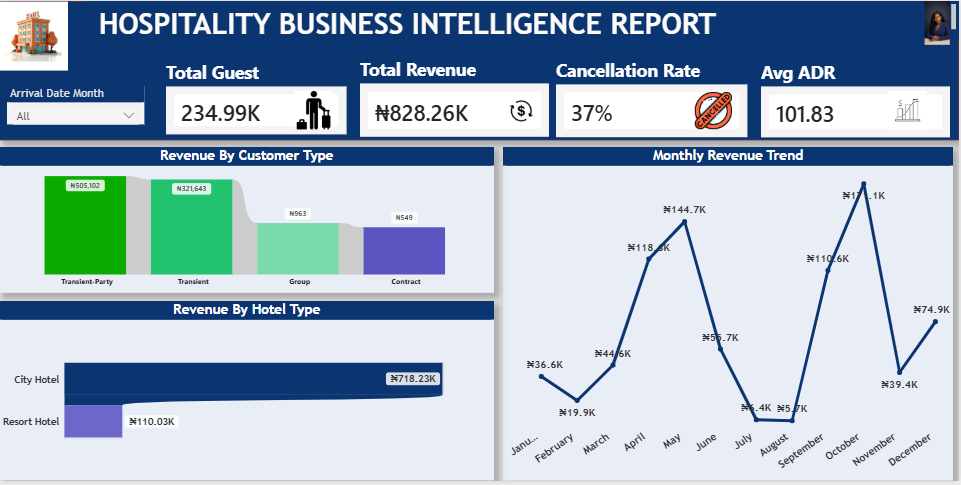

What the dashboard file says about the page in this screenshot:
{"tool":"powerbi","page":{"name":"Executive Report","canvas":[1600,800],"ordinal":0},"visuals":[{"type":"shape","box":[0,0,1600,232.3],"z":0},{"type":"textbox","box":[144.9,0,1455.1,61.4],"z":1000},{"type":"image","box":[0,3.1,144.9,116.5],"z":2000},{"type":"cardVisual","title":"Total Guest","fields":{"Data":["hotel_bookings.Total Guests"]},"box":[273.5,98.1,311.4,129],"z":3000},{"type":"image","box":[462.8,149.7,122.2,63.7],"z":4000},{"type":"cardVisual","title":"Total Revenue","fields":{"Data":["hotel_bookings.Total Revenue"]},"box":[596.9,92.9,326,138.6],"z":5000},{"type":"cardVisual","title":"Cancellation Rate","fields":{"Data":["hotel_bookings.Cancellation Rate"]},"box":[922.8,94.5,329.1,137],"z":6000},{"type":"cardVisual","title":"Avg ADR","fields":{"Data":["hotel_bookings.Average ADR"]},"box":[1264.5,98.1,325.2,134.2],"z":7000},{"type":"image","box":[788,151.4,122.2,53.3],"z":8000},{"type":"image","box":[1087.3,151.4,148,61.9],"z":9000},{"type":"image","box":[1441.7,149.7,146.2,63.7],"z":10000},{"type":"lineChart","title":"Monthly Revenue Trend","fields":{"Category":["hotel_bookings.Arrival Date Month "],"Y":["hotel_bookings.Total Revenue"]},"box":[839.4,244.1,749.6,555.9],"z":11000},{"type":"barChart","title":"Revenue   By Hotel Type","fields":{"Category":["hotel_bookings.Hotel"],"Y":["hotel_bookings.Total Revenue"]},"box":[0,500.8,825.2,299.2],"z":12000},{"type":"slicer","title":"Arrival Date Month","fields":{"Values":["hotel_bookings.Arrival Date Month"]},"box":[13.8,141.1,228.8,63.7],"z":13000},{"type":"columnChart","title":"Revenue  By Customer Type","fields":{"Category":["hotel_bookings.Customer Type"],"Y":["hotel_bookings.Total Revenue"]},"box":[0,244.1,825.2,242.5],"z":14000}]}

Visuals, with their boxes in screenshot pixels (x1, y1, x2, y2), scaled from the page's 1600x800 canvas onto the 961x485 screenshot:
shape: bbox=(0, 0, 960, 141)
textbox: bbox=(87, 0, 960, 37)
image: bbox=(0, 2, 87, 73)
"Total Guest" cardVisual: bbox=(164, 59, 351, 138)
image: bbox=(278, 91, 351, 129)
"Total Revenue" cardVisual: bbox=(359, 56, 554, 140)
"Cancellation Rate" cardVisual: bbox=(554, 57, 752, 140)
"Avg ADR" cardVisual: bbox=(759, 59, 955, 141)
image: bbox=(473, 92, 547, 124)
image: bbox=(653, 92, 742, 129)
image: bbox=(866, 91, 954, 129)
"Monthly Revenue Trend" lineChart: bbox=(504, 148, 954, 484)
"Revenue   By Hotel Type" barChart: bbox=(0, 304, 496, 484)
"Arrival Date Month" slicer: bbox=(8, 86, 146, 124)
"Revenue  By Customer Type" columnChart: bbox=(0, 148, 496, 295)
